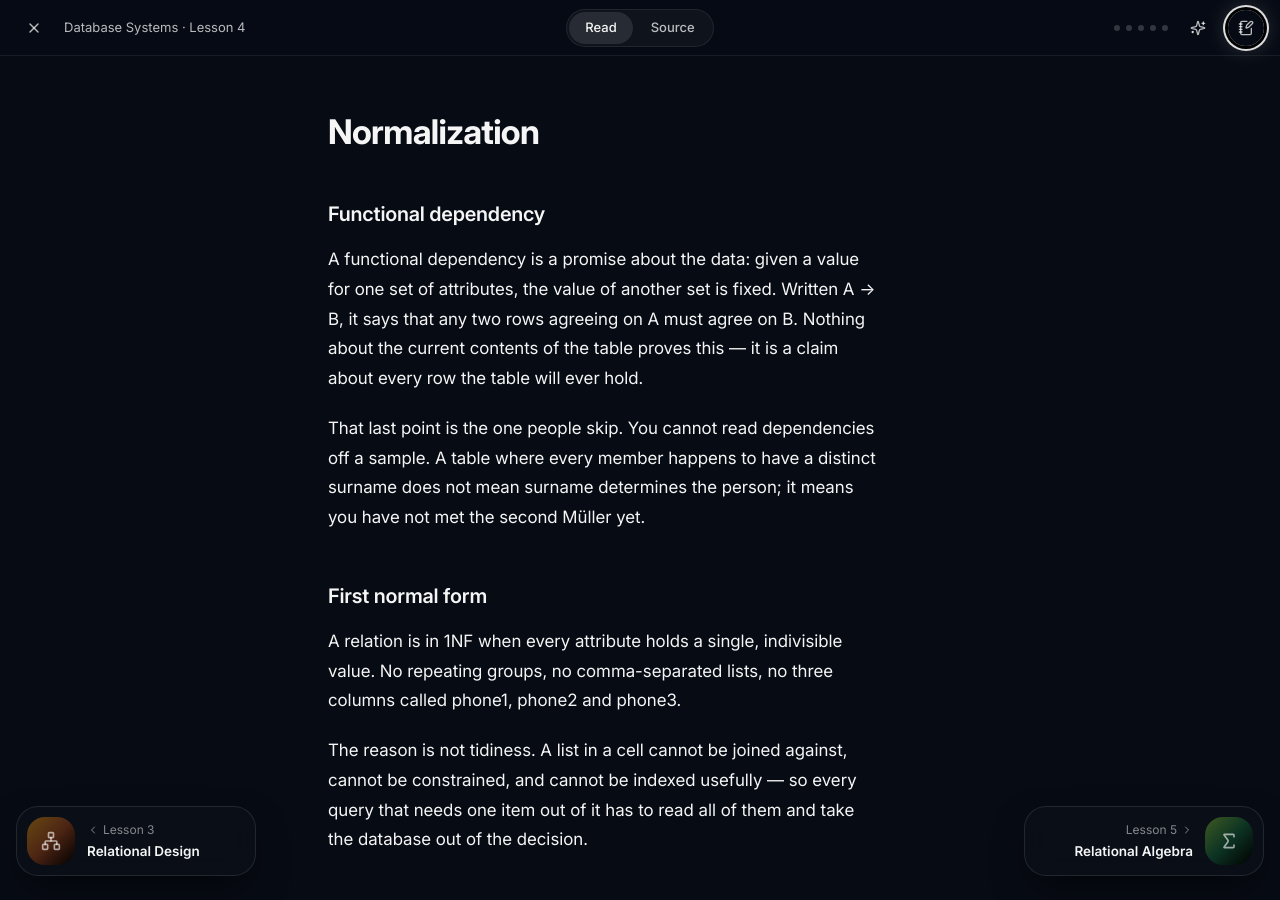
Scenario: notes are written from the rail › offers the composer with the established promise on it
Expected: the header is shown, [0,0,1279,56]
Click the button named "Notes" at (1246, 28), box [1228,10,1264,46]
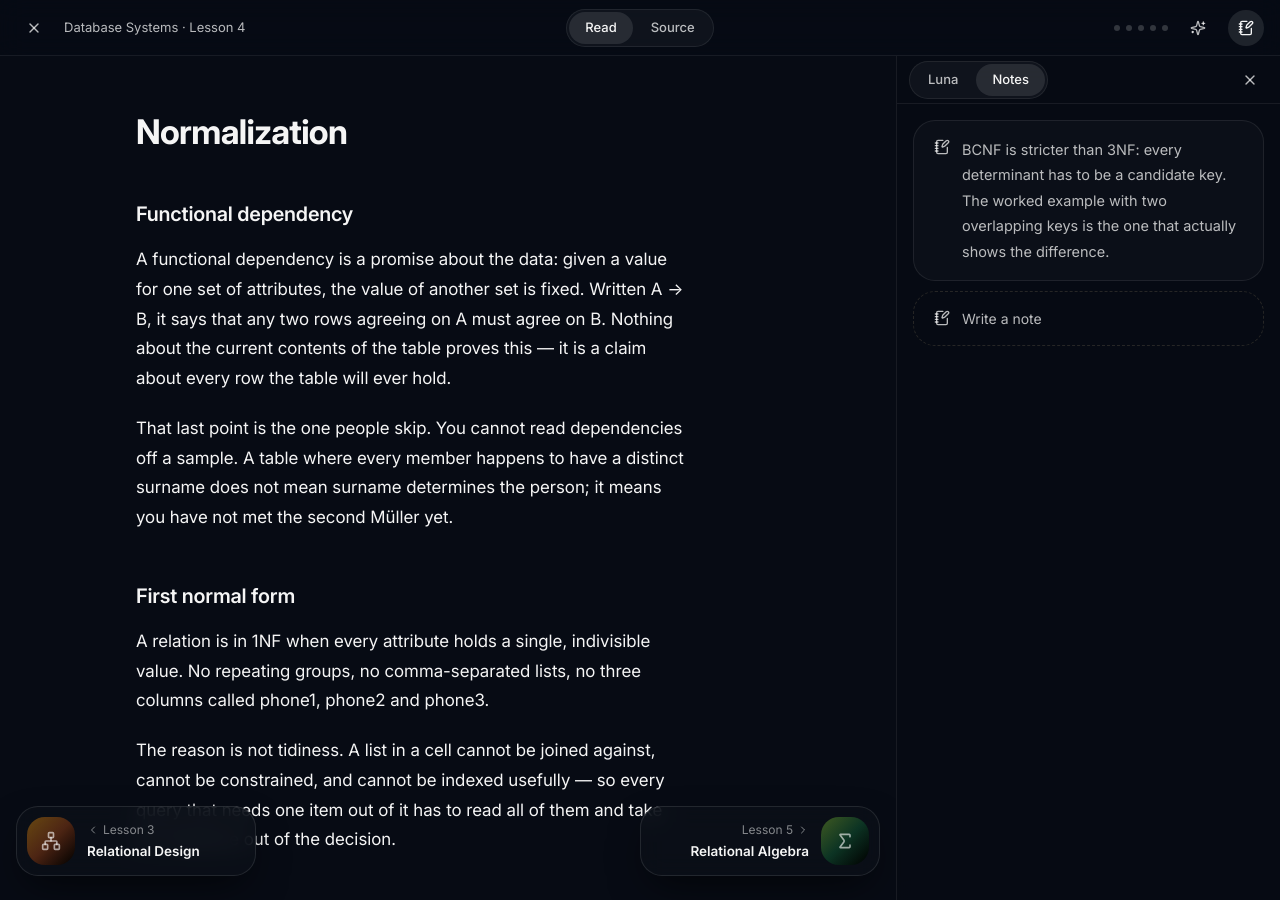
Click the button "Write a note" at (1002, 318), box [913,291,1264,346]
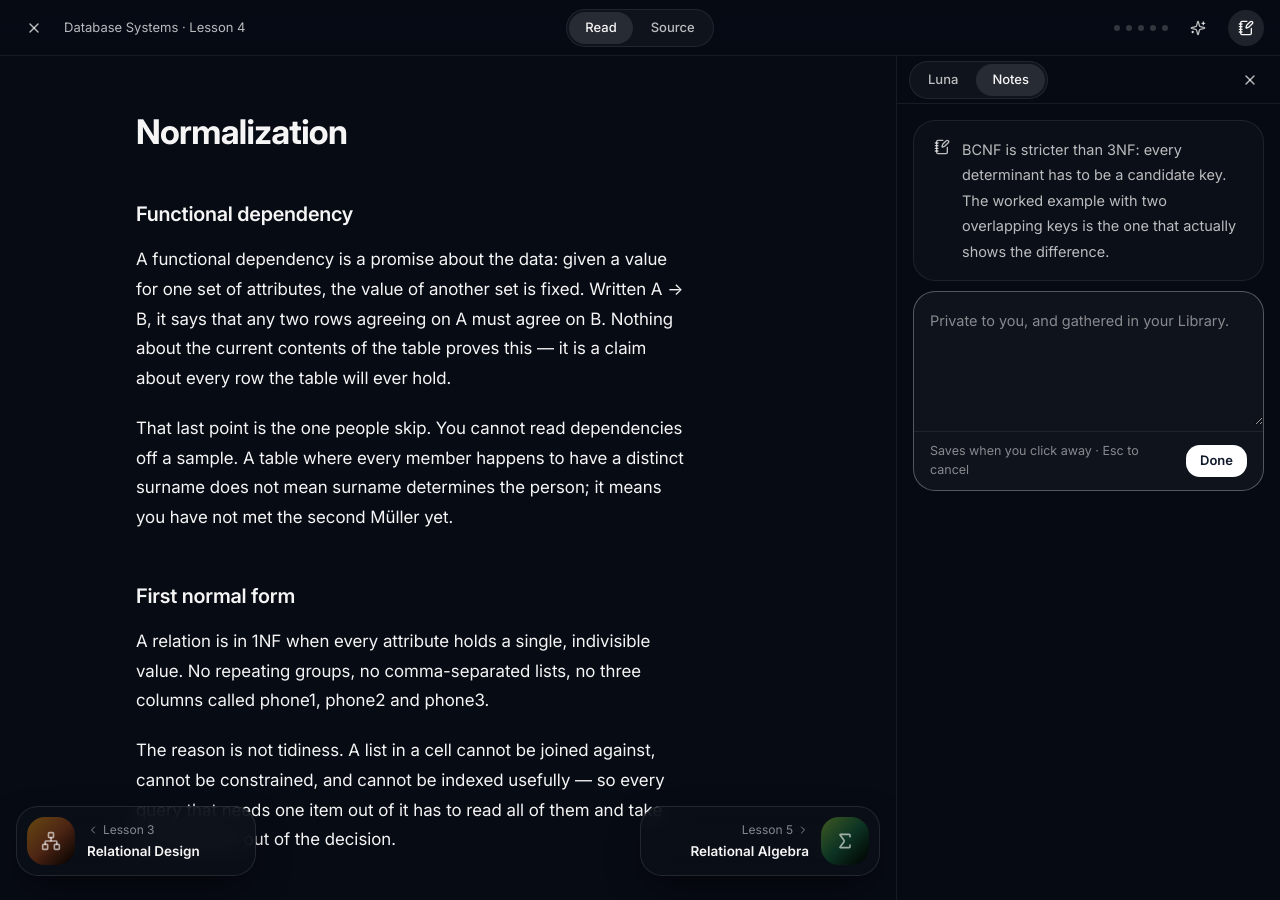
Result: the text box with placeholder "Private to you, and gathered in your Library." is shown at [914,292,1263,425]
